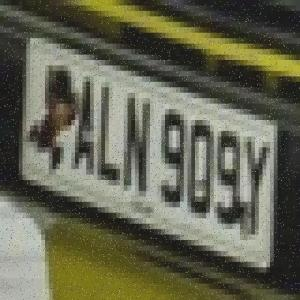Plate: (22, 40, 275, 267)
